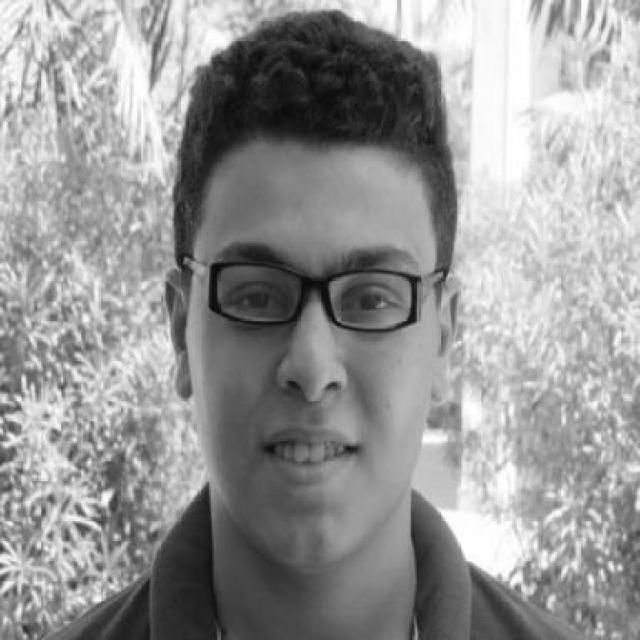Glasses: (172, 237, 465, 339)
